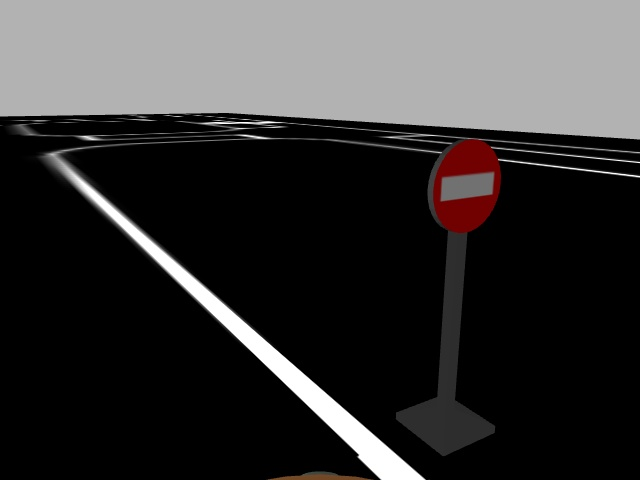prohibited: (432, 134, 503, 233)
